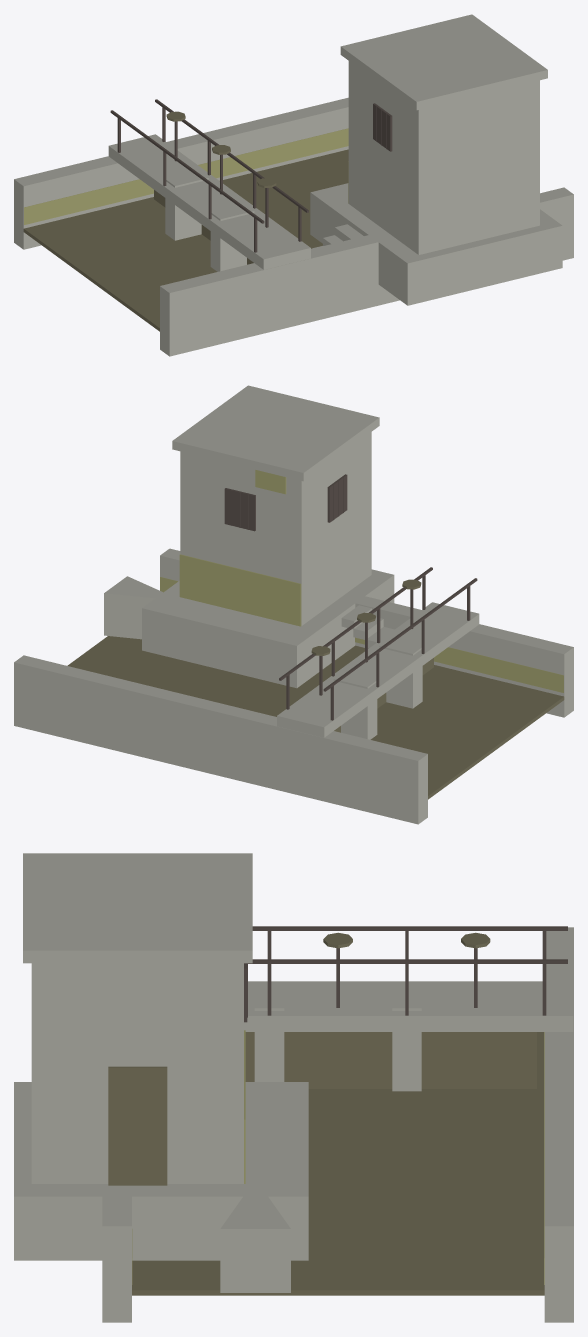
The model's file is SM_CasetaCompuertas_v2_Escalera_LOD0.fbx.
3 renders of one model, top to bottom at view 1: azimuth 30°, elevation 25°; view 2: azimuth 150°, elevation 25°; view 3: azimuth 270°, elevation 25°, orthographic. The views are drawn at different scales.
Visible parts, largest first — view 1: SM_bloques.caseta_compuertas_v2_LOD0; view 2: SM_bloques.caseta_compuertas_v2_LOD0; view 3: SM_bloques.caseta_compuertas_v2_LOD0.
Boxes of the visible parts, left/top/right/bottom form: SM_bloques.caseta_compuertas_v2_LOD0: left=14, top=14, right=573, bottom=356; SM_bloques.caseta_compuertas_v2_LOD0: left=14, top=385, right=573, bottom=824; SM_bloques.caseta_compuertas_v2_LOD0: left=14, top=853, right=573, bottom=1322.
Bounding box in the file's own units: 12.1 × 6.24 × 9.5.
